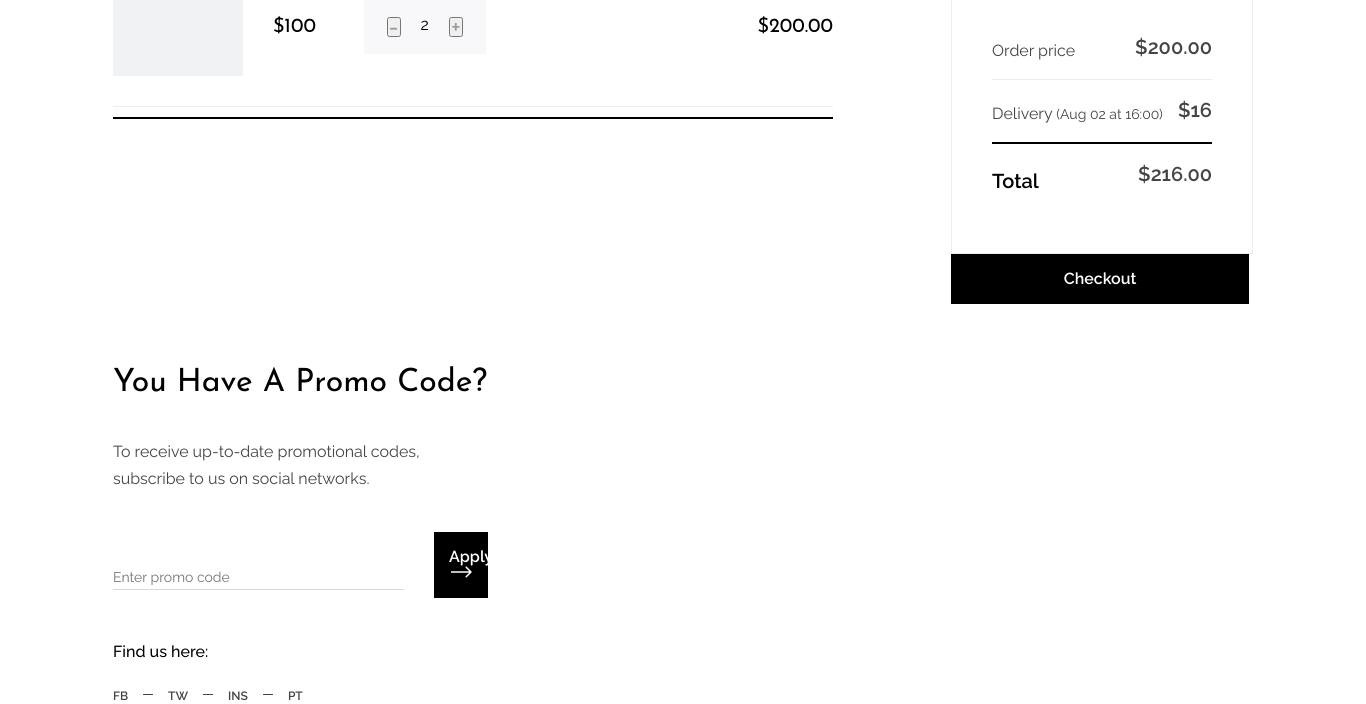
Promo code check › Price with promo code applied works correctly
This screenshot has width=1366, height=704.
(page scrolled)
Expected: the text with test id "cart-total" reads "$216.00", [1138,164,1212,198]
Type "ilovereact" into the field with test id "promo-code-input". click: (258, 565)
box: [113,540,404,590]
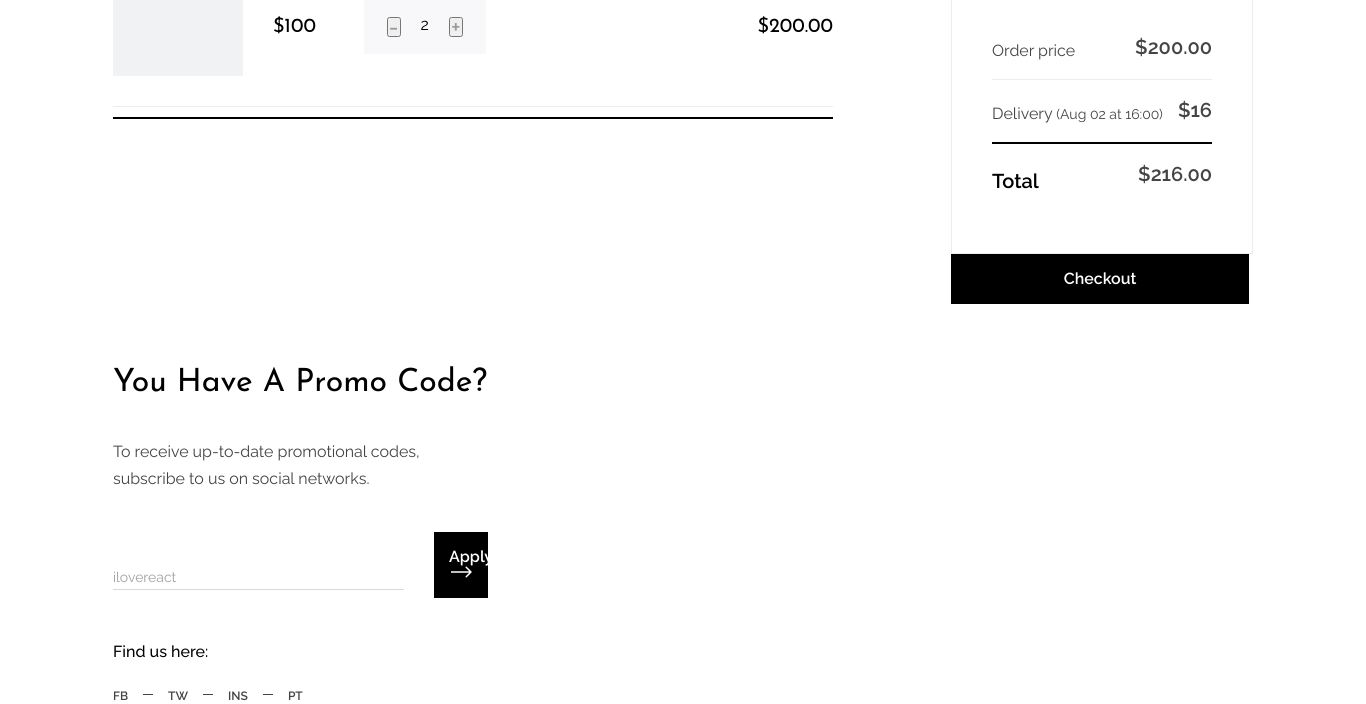
Click the button with test id "apply-promo-btn". click: (461, 565)
box: [434,532,488,598]
(page scrolled)
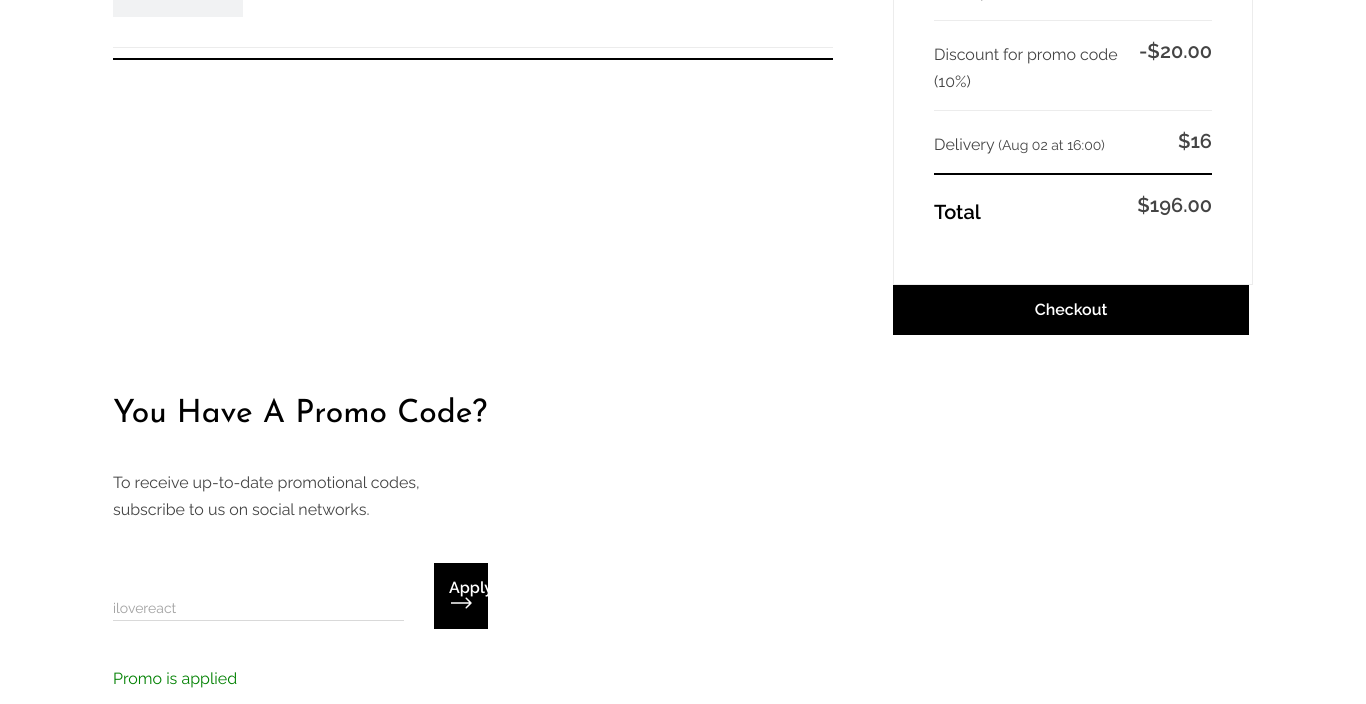
Now the text with test id "promo-message" reads "Promo is applied", box [113,669,237,688]
Now the text with test id "cart-total" reads "$196.00", box [1137,195,1212,229]
